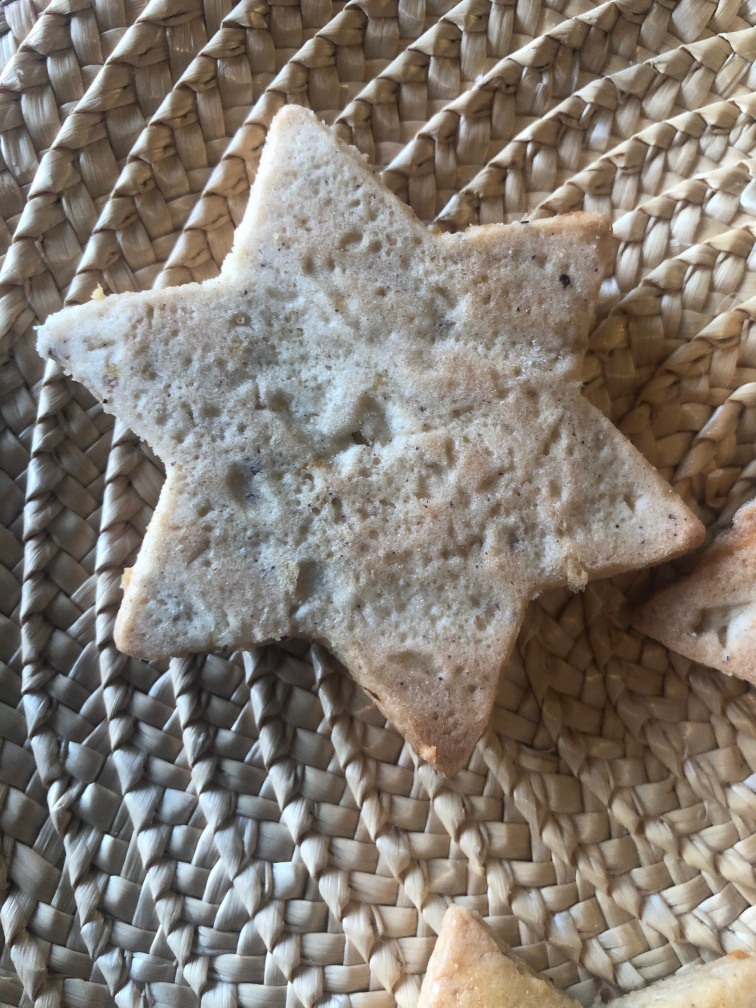star: (27, 99, 704, 773)
